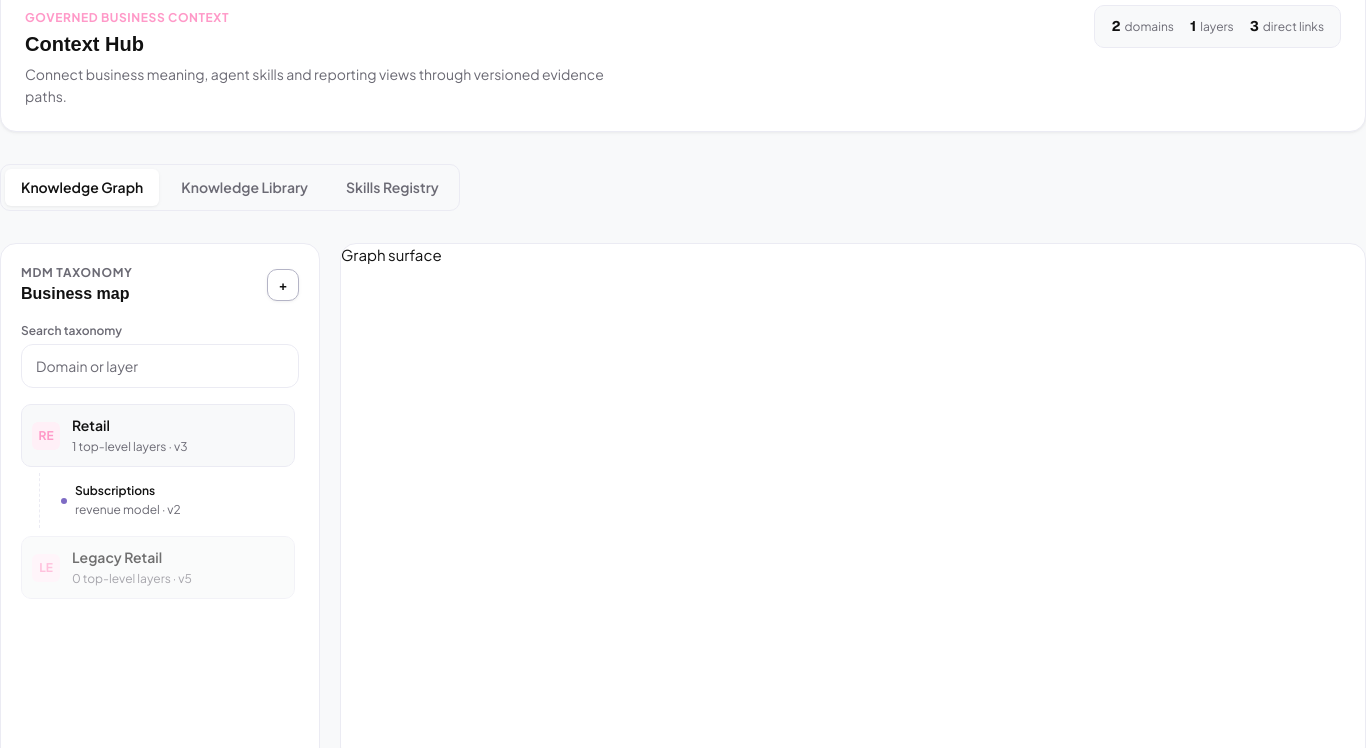
it: renders client-defined business layers and opens a traceable evidence path
The image size is (1366, 748).
Expected: the button "Subscriptions revenue model · v2" is shown, x1=50 y1=473 x2=295 y2=528
Expected: the button "LE Legacy Retail 0 top-level layers · v5" is shown, x1=21 y1=536 x2=295 y2=599
Click the button "RE Retail 1 top-level layers · v3".
click(91, 425)  # box x1=21 y1=404 x2=295 y2=467
(page scrolled)
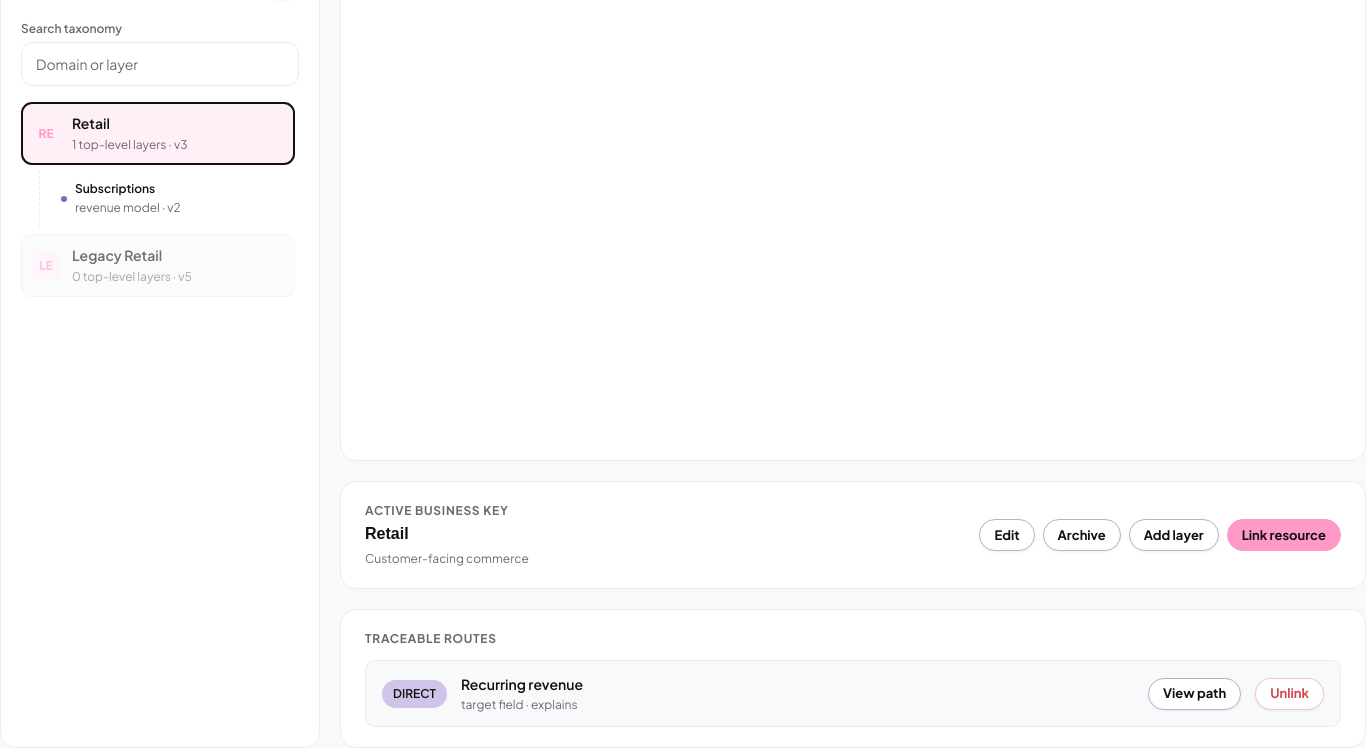
Click the button "View path".
click(1195, 694)  # box x1=1148 y1=678 x2=1241 y2=710
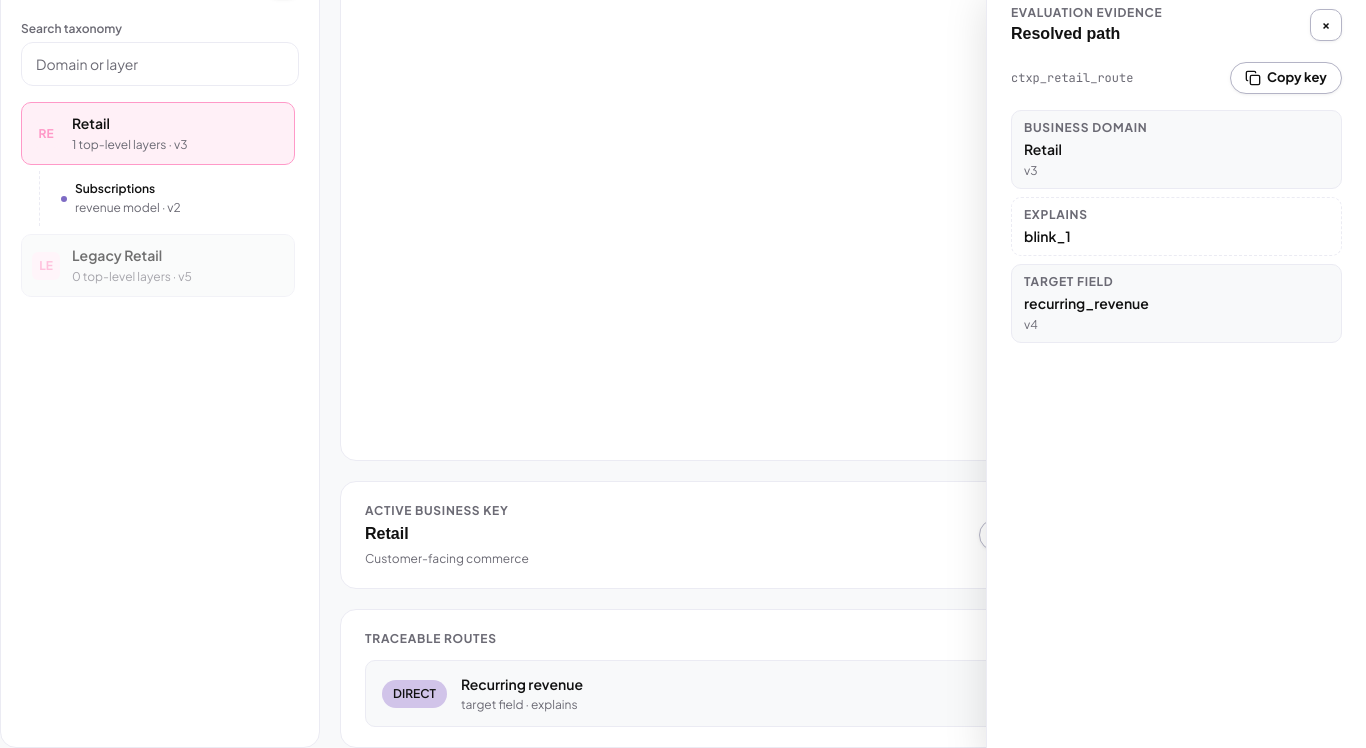
Expected: the text "ctxp_retail_route" is shown, x1=1011 y1=69 x2=1133 y2=87
Expected: the button "Copy key" is shown, x1=1230 y1=62 x2=1342 y2=94
Expected: the text "recurring_revenue" is shown once, x1=1024 y1=294 x2=1149 y2=312
